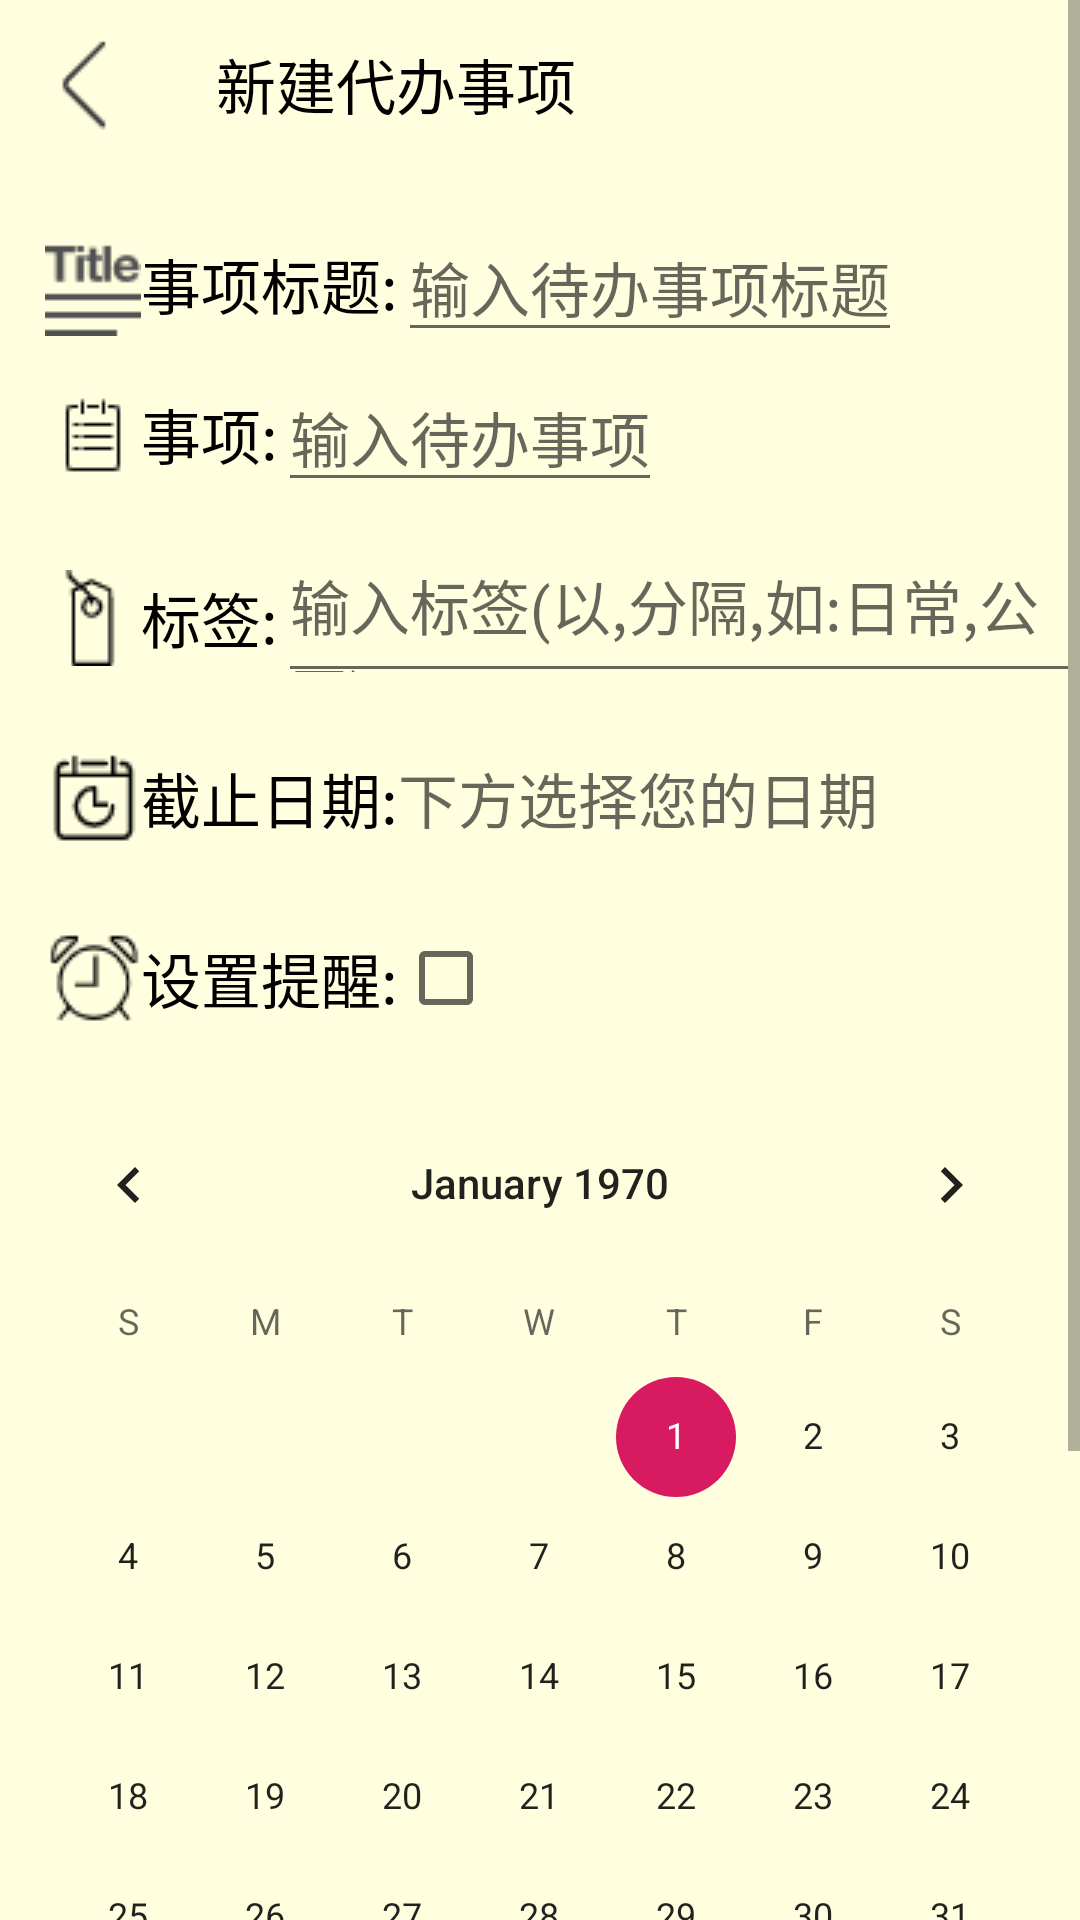

Icons on this 1080 × 1920 Android screen, each with the point to tap as [x,y]:
clock: [94,978]
date: [94,798]
mark: [90,618]
task: [93,435]
